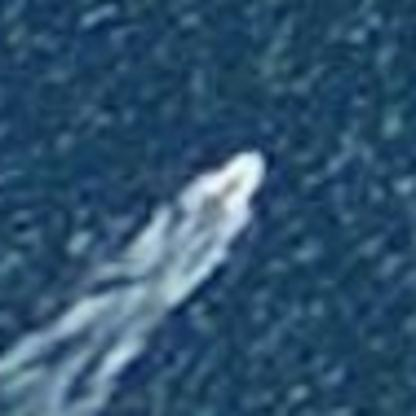ship: (171, 142, 273, 226)
